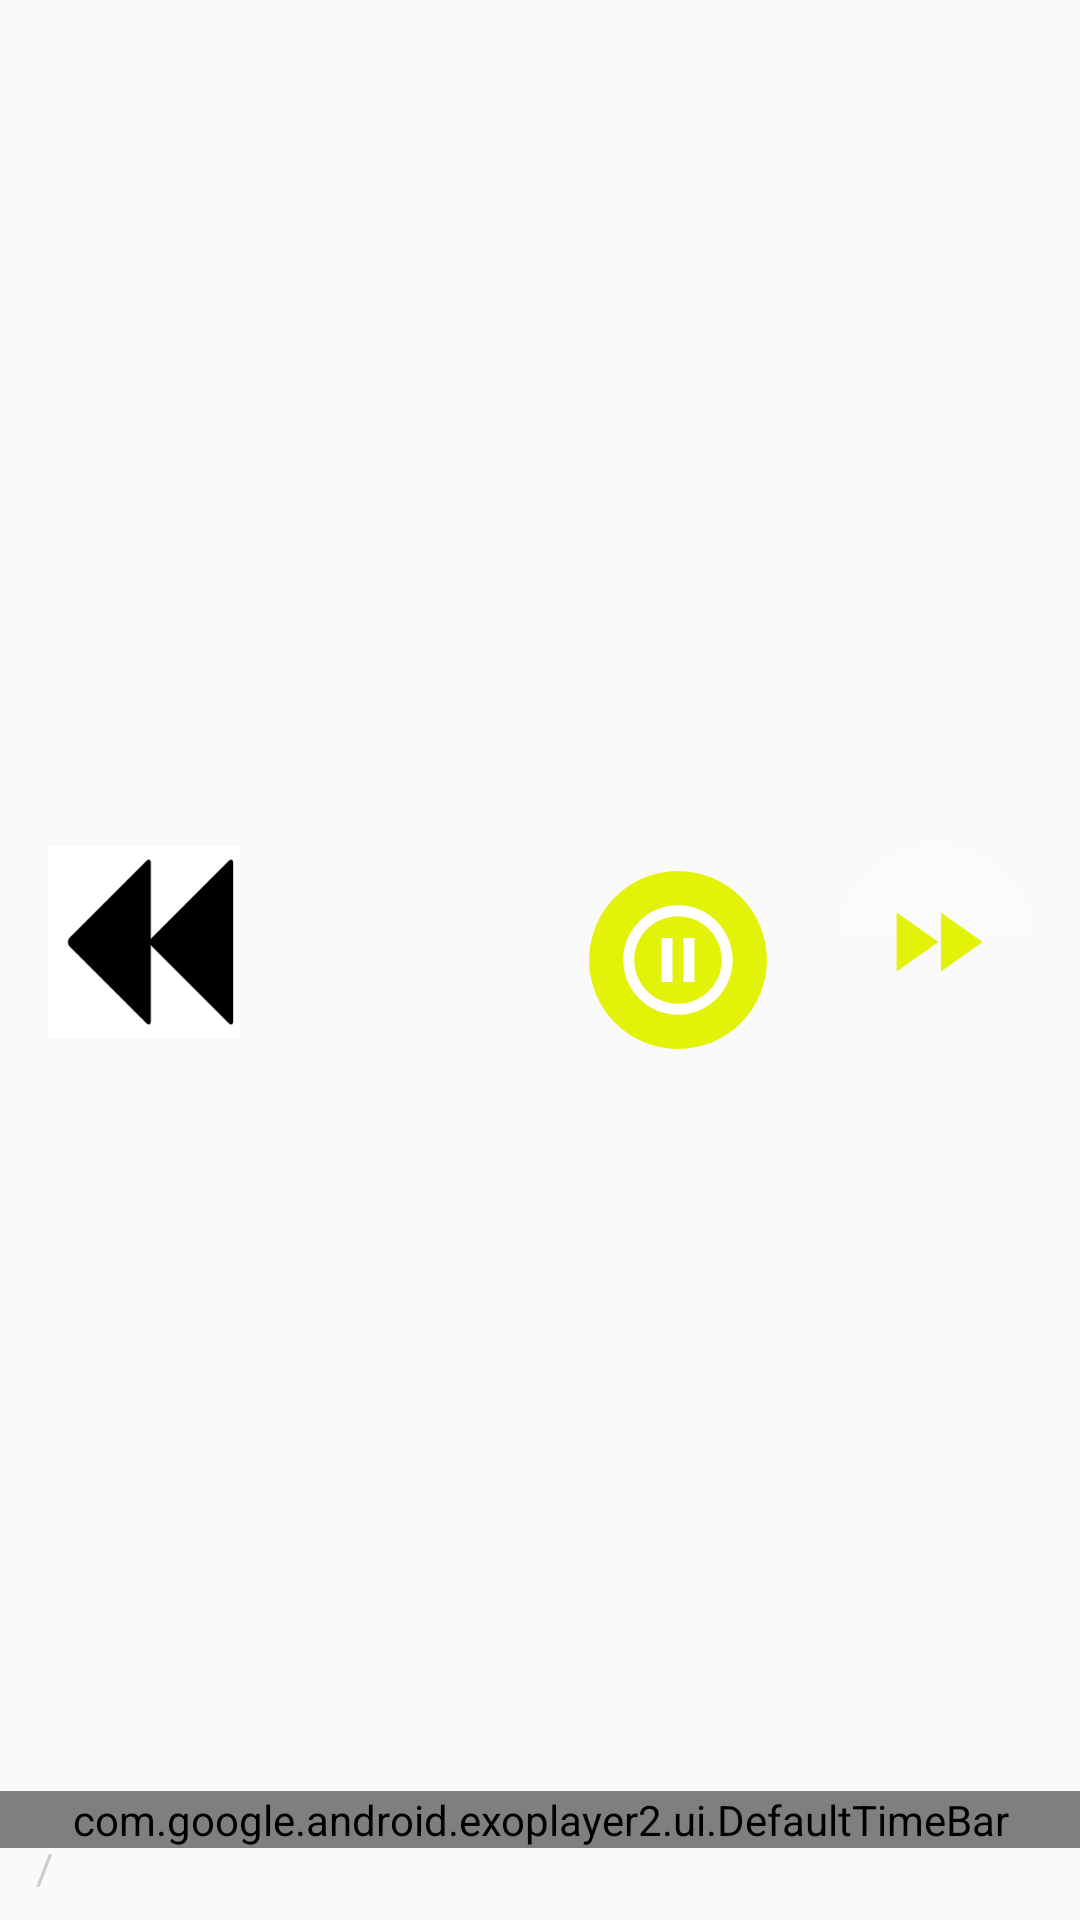

Icons on this 1080*1920 Android screen, each with its box as region(x1, y1, x2, y2):
backward: region(67, 859, 234, 1025)
forward: region(896, 912, 983, 972)
pause: region(589, 871, 767, 1049)
